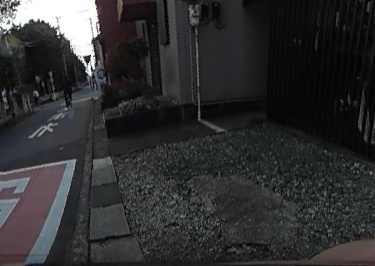person: (60, 72, 74, 109)
